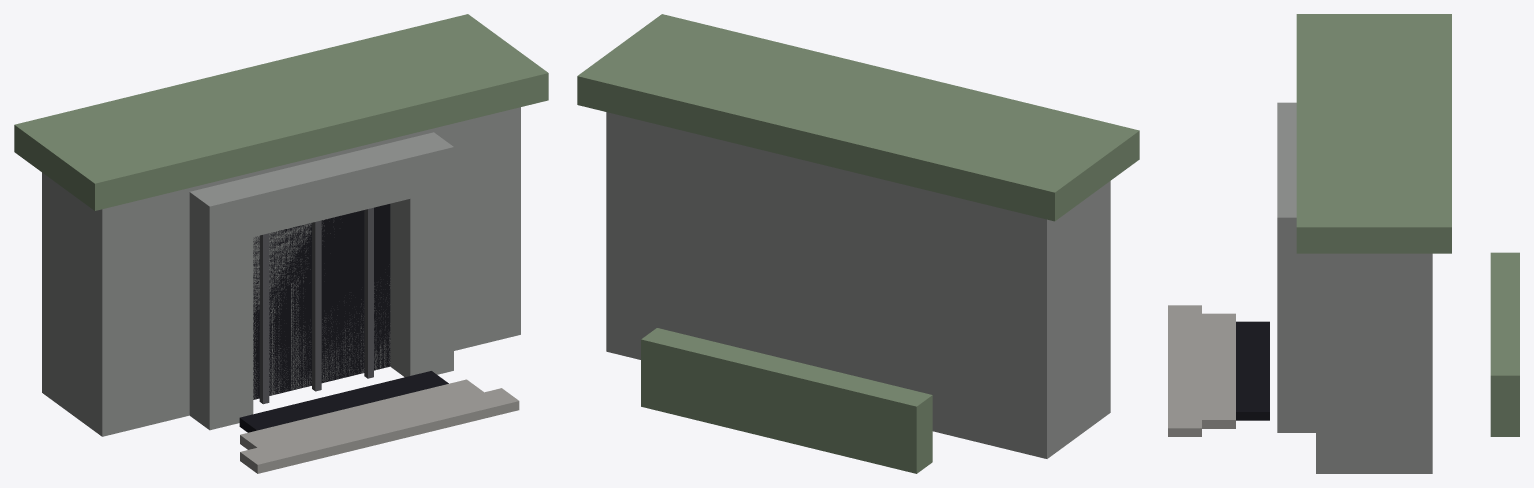
File: catacomb_gate.glb
3 views of the same model, side by side, from view 1: azimuth 30°, elevation 25°; view 2: azimuth 150°, elevation 25°; view 3: azimuth 270°, elevation 25° (orthographic). The views are drawn at different scales.
Visible parts, largest first — view 1: catacomb_gate; view 2: catacomb_gate; view 3: catacomb_gate.
Boxes of the visible parts, x1,y1,x2,y2 form: catacomb_gate: (14,14,548,473); catacomb_gate: (577,14,1139,473); catacomb_gate: (1168,14,1519,473).
Bounding box in the file's own units: 5.2 × 2.9 × 3.62.
